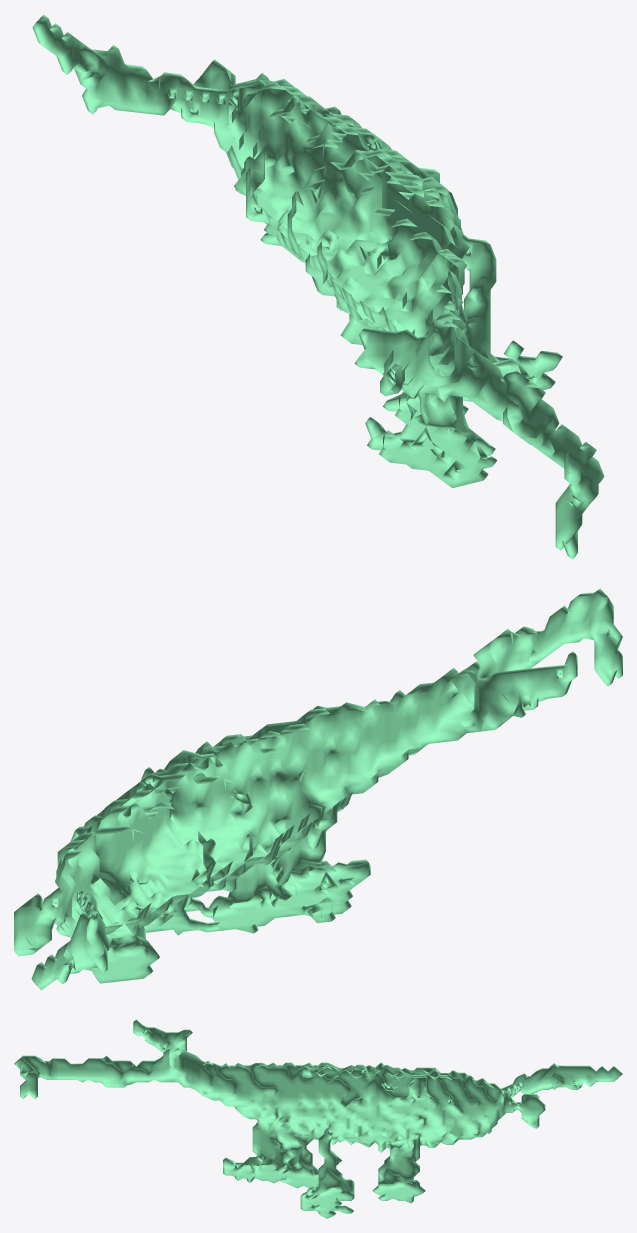
The model's file is osteocyte_39.glb.
3 renders of one model, top to bottom at view 1: azimuth 30°, elevation 25°; view 2: azimuth 150°, elevation 25°; view 3: azimuth 270°, elevation 25°, orthographic. The views are drawn at different scales.
Visible parts, largest first — view 1: osteocyte_39; view 2: osteocyte_39; view 3: osteocyte_39.
Boxes of the visible parts, bbox=[...] form: osteocyte_39: bbox=[32, 14, 604, 559]; osteocyte_39: bbox=[14, 588, 622, 990]; osteocyte_39: bbox=[14, 1019, 622, 1218].
Size of the model in its own units: 16.85 by 10.11 by 49.11.
